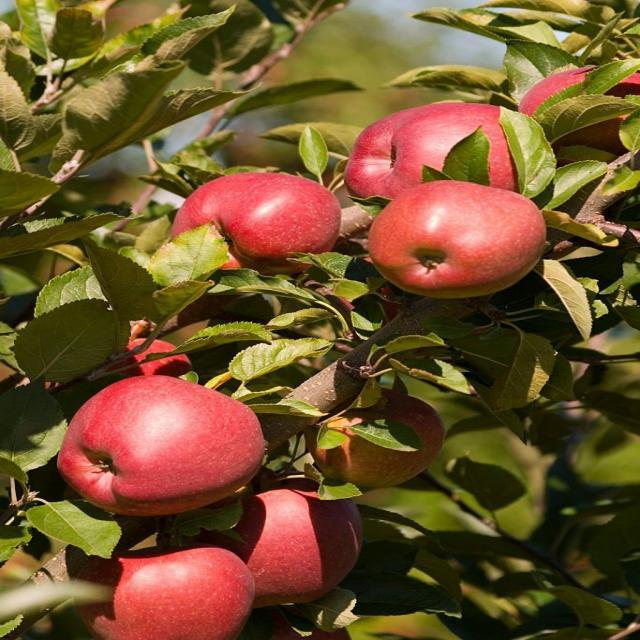Red Apple: (64, 374, 265, 499), (347, 104, 547, 212), (381, 176, 547, 296), (191, 483, 360, 593), (84, 540, 255, 640), (178, 172, 345, 274), (317, 390, 447, 484), (513, 60, 640, 146), (56, 337, 195, 412), (252, 600, 355, 640)
